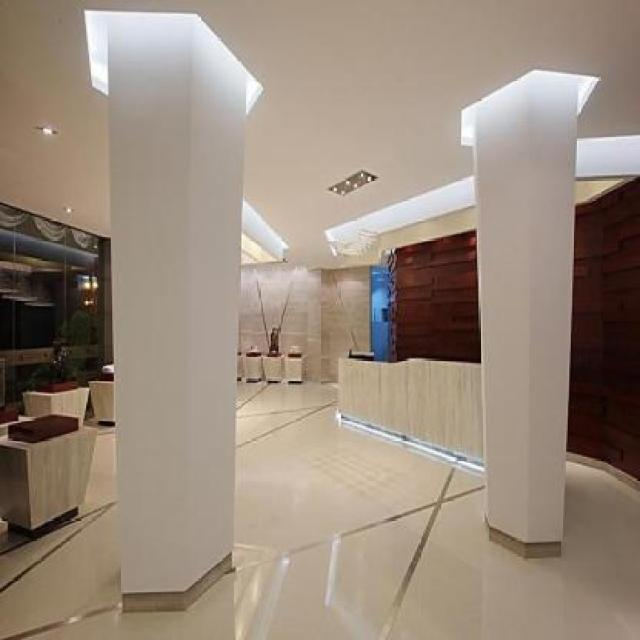frontdesk: (336, 331, 492, 488)
